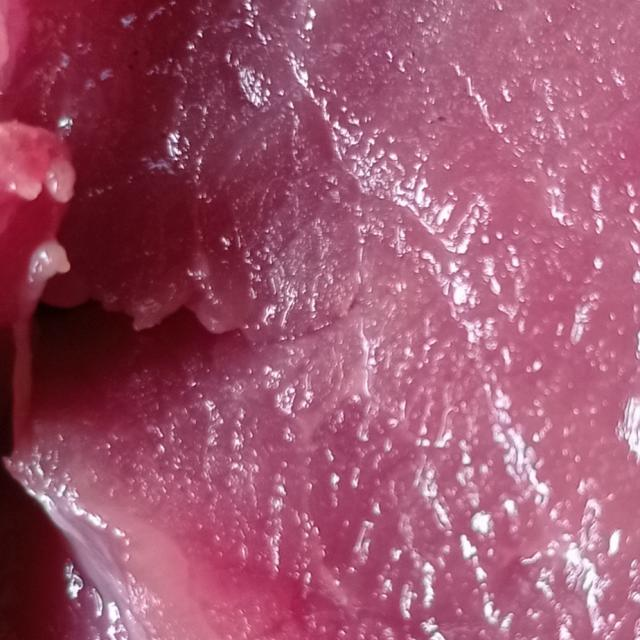Pork: (159, 145, 586, 579)
